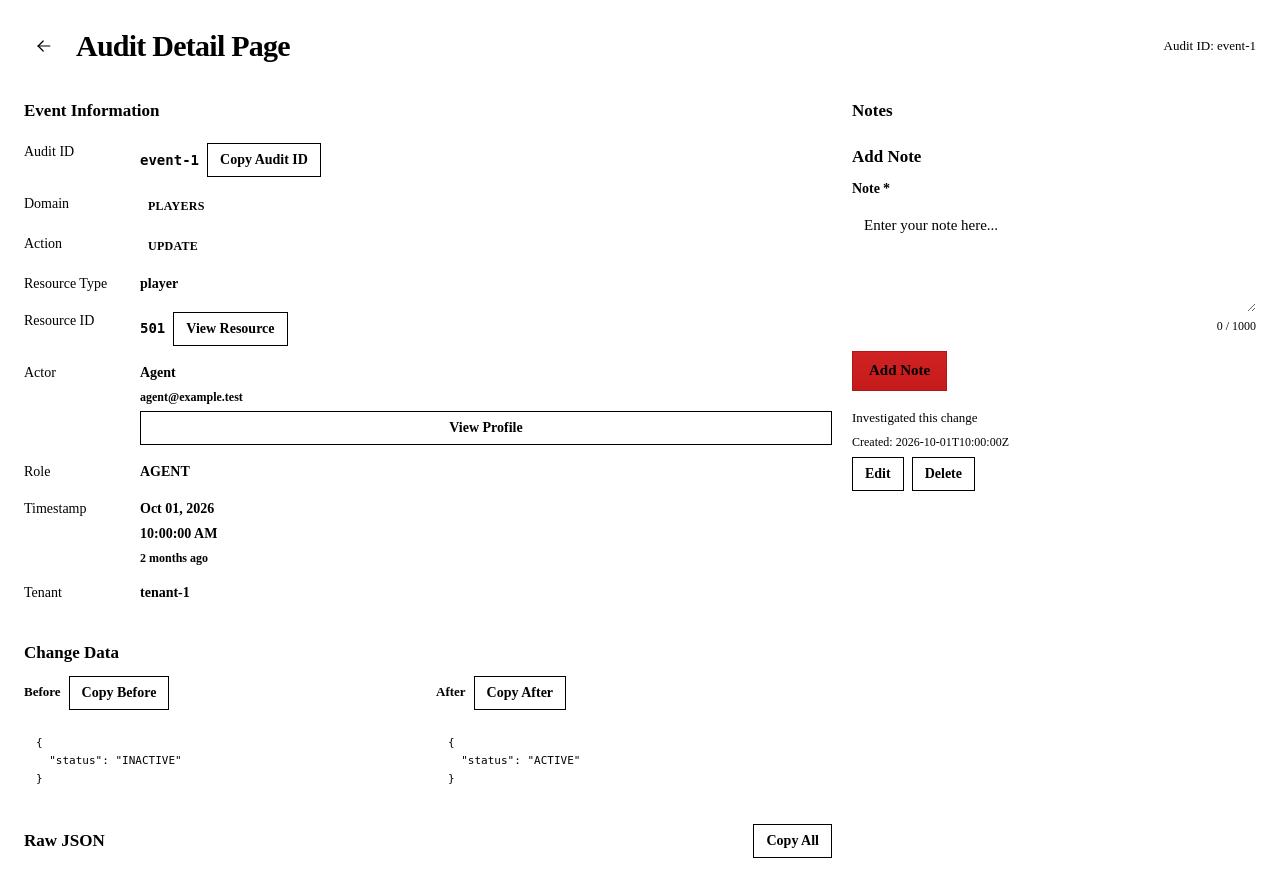
Test case: audit detail and annotations contracts › resource and actor actions keep their navigation destinations
Later steps or results of the test are not shown.
Click the button "View Resource": (230, 329) 173,312 -> 288,346
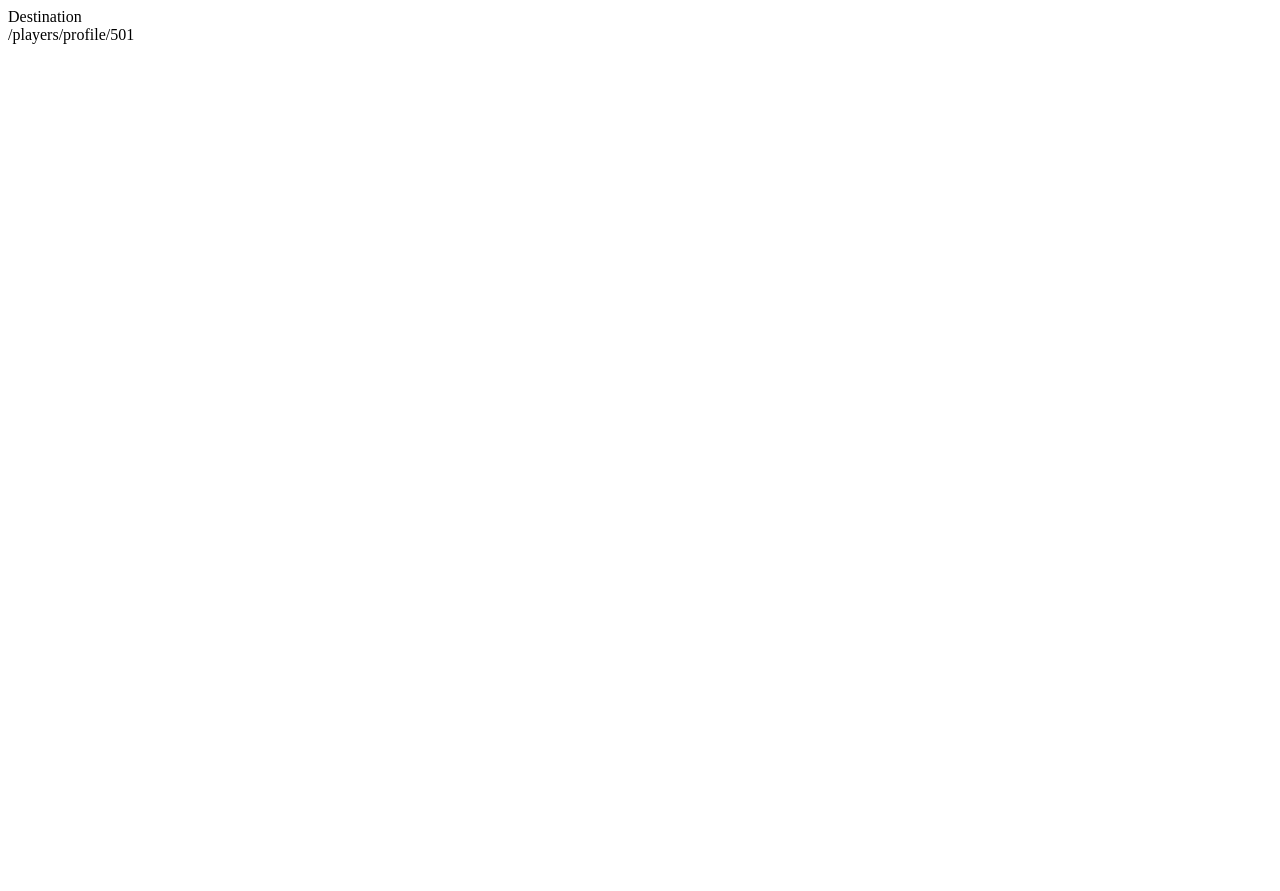
Result: the text named "Current route" reads "/players/profile/501" at 8,26 -> 134,43
